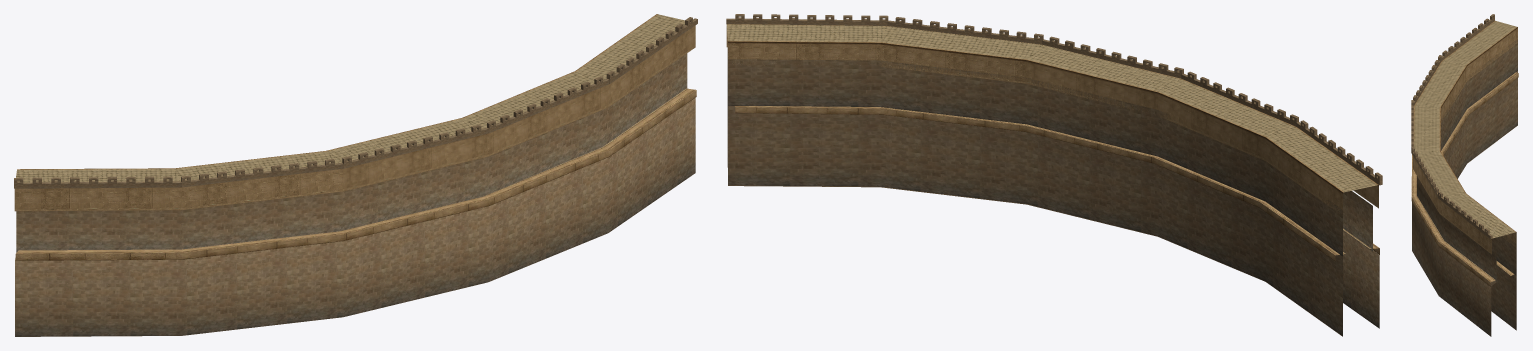
The model's file is environment_Building_fenghuotai_d.FBX.
3 views of the same model, side by side, from view 1: azimuth 30°, elevation 25°; view 2: azimuth 150°, elevation 25°; view 3: azimuth 270°, elevation 25° (orthographic). The views are drawn at different scales.
Parts seen in each view (by area): view 1: environment_Building_fenghuotai_d03, environment_Building_fenghuotai_d01, environment_Building_fenghuotai_d02; view 2: environment_Building_fenghuotai_d03, environment_Building_fenghuotai_d01, environment_Building_fenghuotai_d02; view 3: environment_Building_fenghuotai_d03, environment_Building_fenghuotai_d02, environment_Building_fenghuotai_d01.
Part boxes in pixels (left/top/right/bottom): environment_Building_fenghuotai_d03: left=14, top=17, right=697, bottom=336; environment_Building_fenghuotai_d01: left=14, top=14, right=696, bottom=260; environment_Building_fenghuotai_d02: left=16, top=14, right=684, bottom=182; environment_Building_fenghuotai_d03: left=726, top=14, right=1382, bottom=336; environment_Building_fenghuotai_d01: left=726, top=24, right=1379, bottom=261; environment_Building_fenghuotai_d02: left=726, top=24, right=1376, bottom=192; environment_Building_fenghuotai_d03: left=1411, top=14, right=1517, bottom=336; environment_Building_fenghuotai_d02: left=1414, top=21, right=1516, bottom=238; environment_Building_fenghuotai_d01: left=1411, top=20, right=1518, bottom=286.
Size of the model in its own units: 1938 by 401 by 431.
